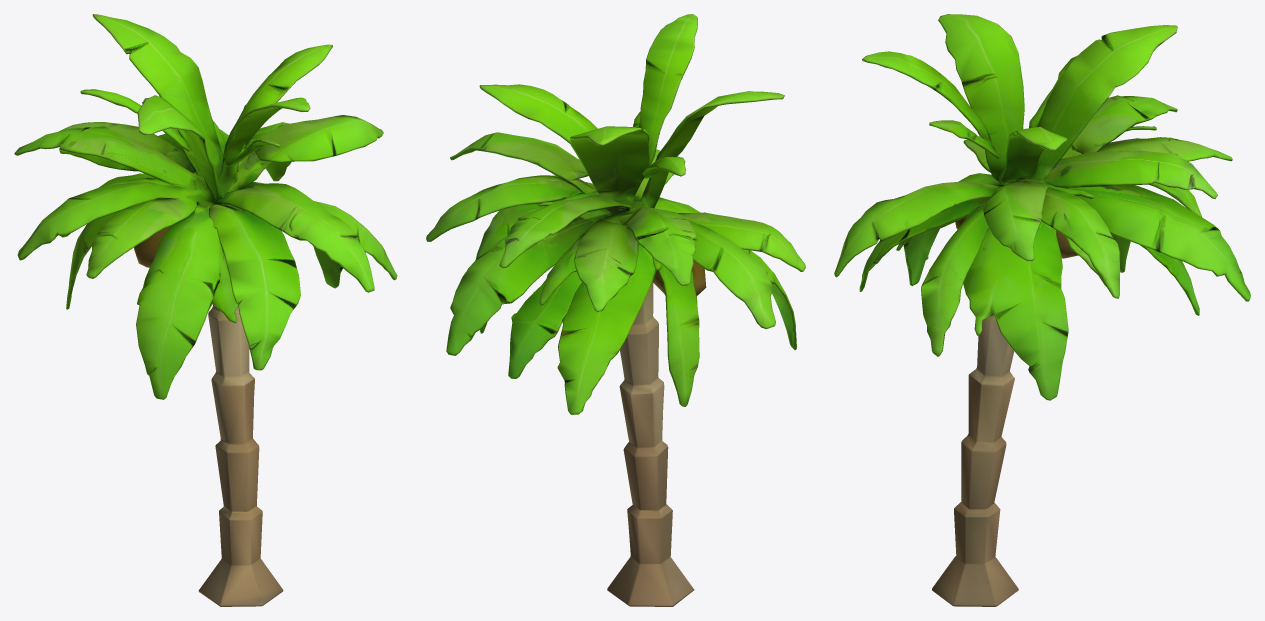
File: CoconutTree.fbx
3 views of the same model, side by side, from view 1: azimuth 30°, elevation 25°; view 2: azimuth 150°, elevation 25°; view 3: azimuth 270°, elevation 25° (orthographic). The views are drawn at different scales.
Parts seen in each view (by area): view 1: Mesh_0.001, Mesh_0; view 2: Mesh_0.001, Mesh_0; view 3: Mesh_0.001, Mesh_0.
Part boxes in pixels (x1,y1,x2,y2): Mesh_0.001: (14, 14, 397, 511); Mesh_0: (198, 505, 283, 606); Mesh_0.001: (426, 14, 805, 510); Mesh_0: (607, 504, 694, 606); Mesh_0.001: (834, 14, 1250, 508); Mesh_0: (932, 502, 1018, 606).
Size of the model in its own units: 137 by 200 by 140.
1 material, 1 textured.
